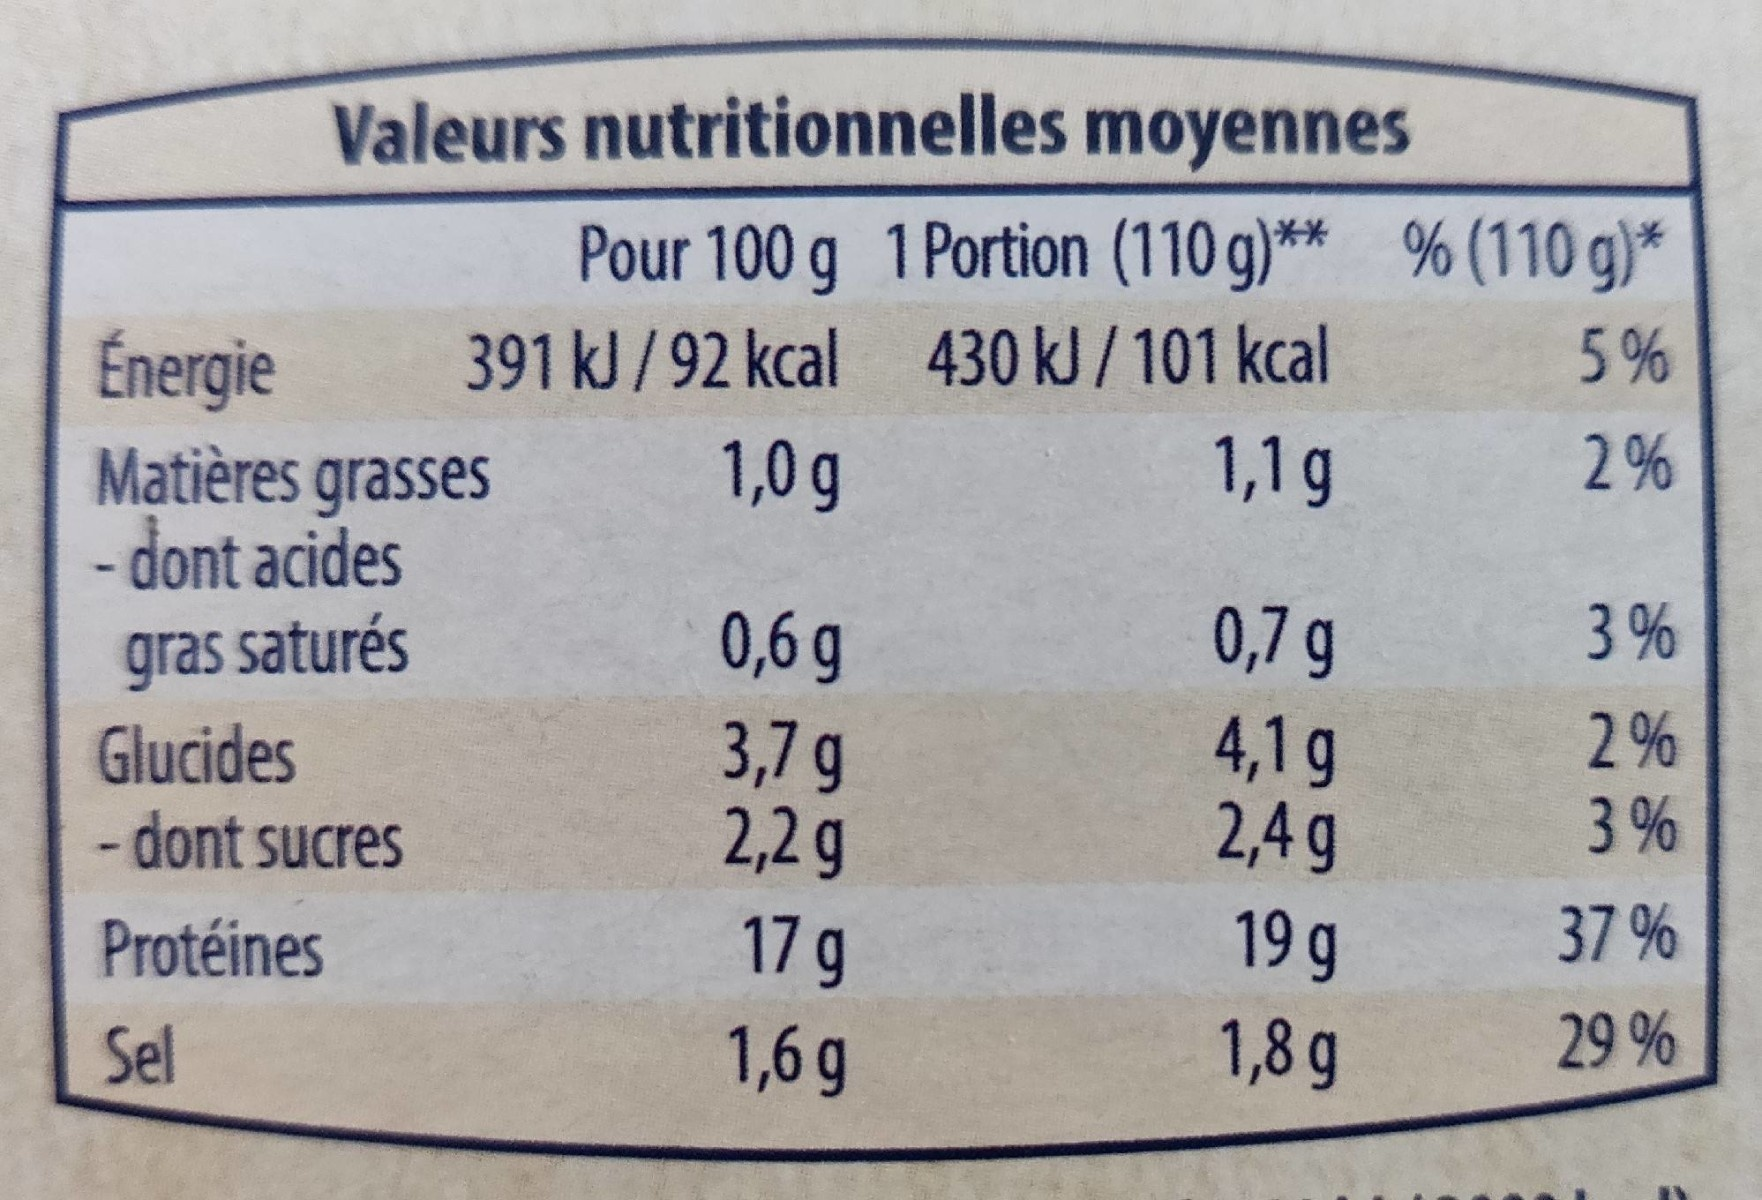column: (882, 189, 1358, 1126), (469, 196, 865, 1136), (54, 315, 491, 1101), (1378, 189, 1714, 1122)
table: (54, 204, 1716, 1100)
